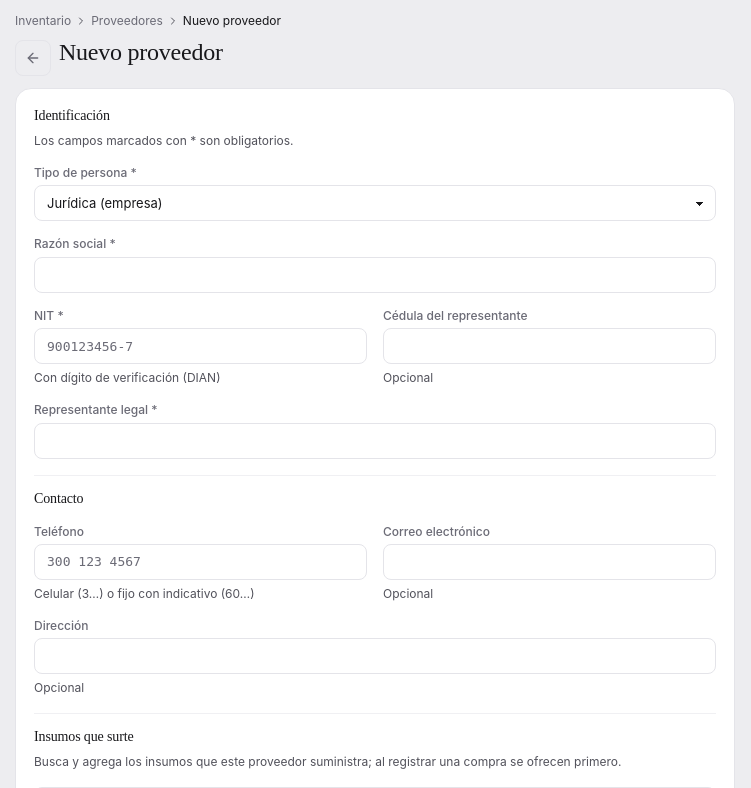
Test: Proveedor nuevo — validación y formulario condicional › el teléfono solo admite dígitos, se formatea solo y tope de 10
In the field labelled "Teléfono": (200, 562) [34,544,367,580], type "(300) 123-4567 99"
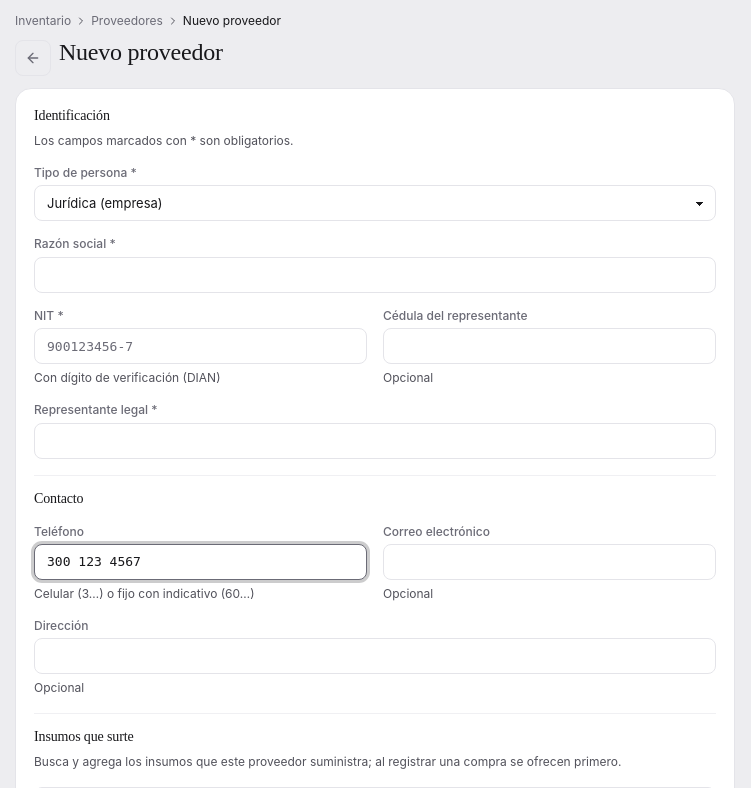
Expected: the field labelled "Teléfono" holds "300 123 4567", [34,544,367,580]
